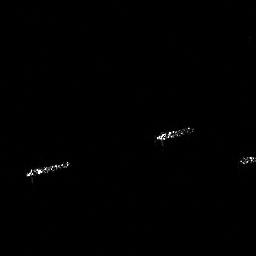ship: (25, 161, 72, 183), (153, 125, 195, 147)
